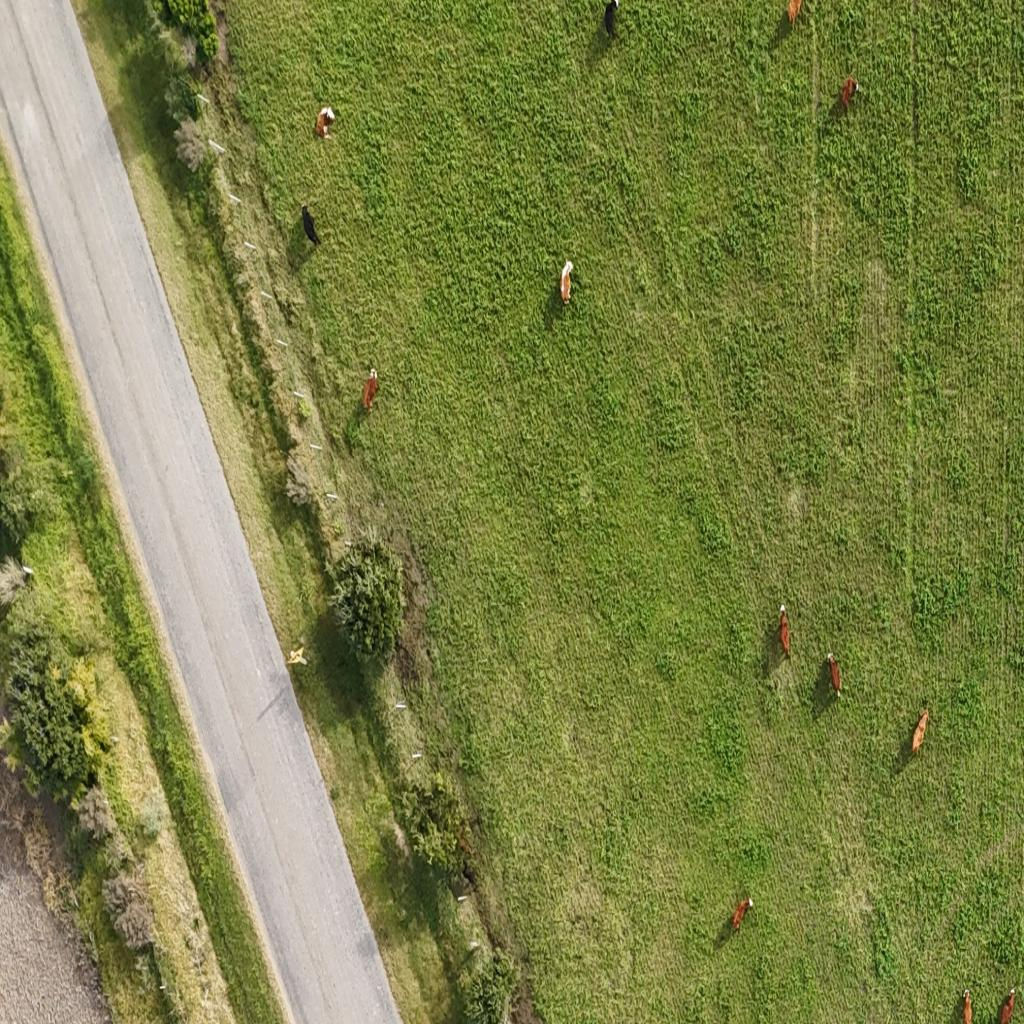cow: (550, 255, 580, 322), (729, 893, 755, 936), (359, 364, 379, 416), (911, 703, 931, 755), (301, 202, 321, 248), (826, 650, 844, 698), (777, 603, 791, 660), (309, 104, 330, 140), (997, 987, 1016, 1024), (841, 75, 859, 112), (604, 0, 620, 39), (788, 0, 804, 27), (962, 988, 972, 1023)
